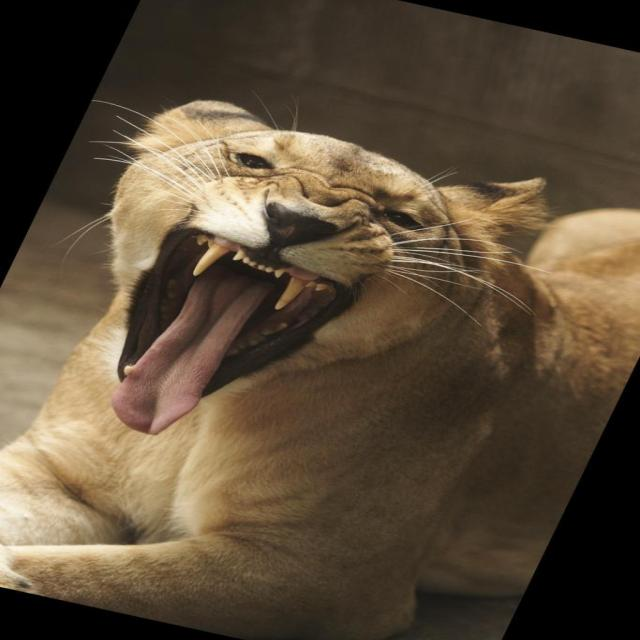Lion: (0, 52, 639, 639)
